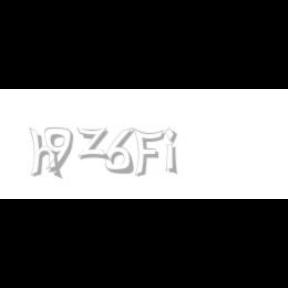6: (106, 128, 134, 176)
9: (44, 128, 74, 172)
F: (132, 128, 164, 178)
h: (30, 128, 64, 180)
i: (165, 128, 181, 176)
z: (76, 128, 112, 160)
